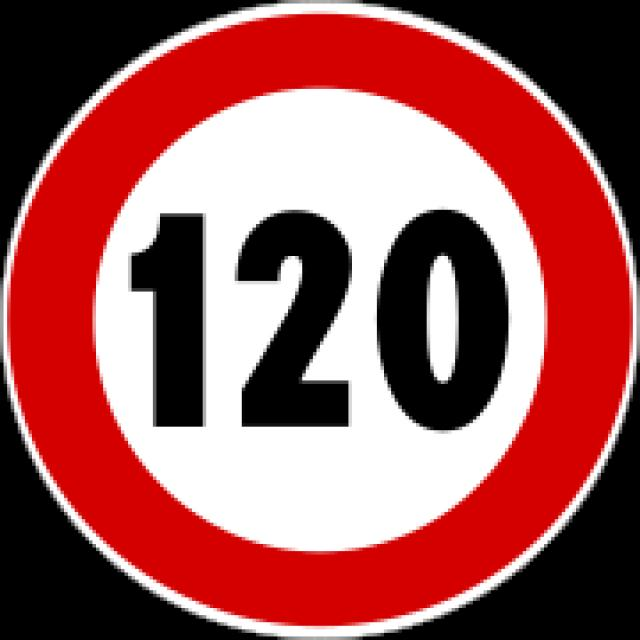Speed Limit -120-: (124, 206, 511, 435)
